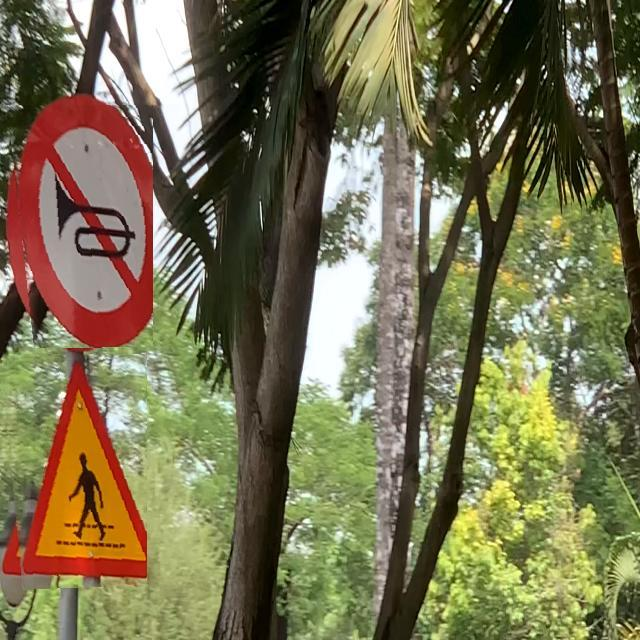P-128: (7, 106, 153, 350)
W-224: (0, 354, 147, 590)
